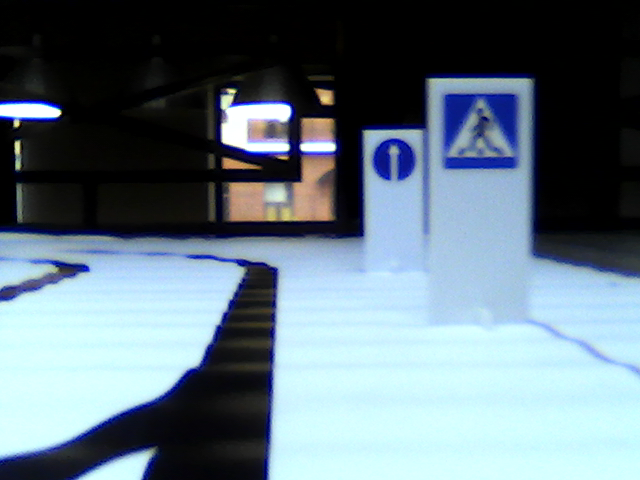forw: (370, 137, 416, 184)
pesh: (446, 95, 517, 170)
